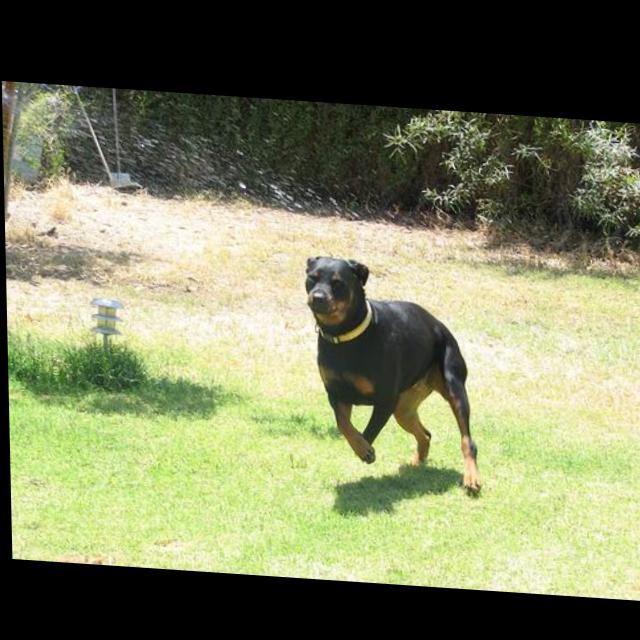rottweiler: (304, 250, 482, 489)
